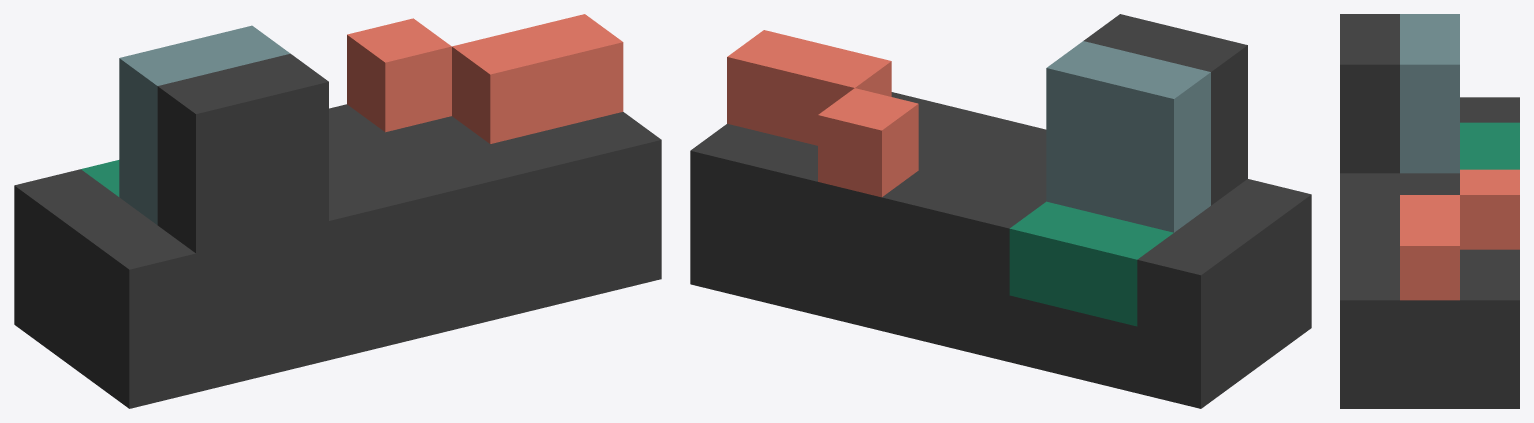
Rendered from casher.glb.
3 renders of one model, left to right at view 1: azimuth 30°, elevation 25°; view 2: azimuth 150°, elevation 25°; view 3: azimuth 270°, elevation 25°, orthographic. The views are drawn at different scales.
Parts seen in each view (by area): view 1: Untitled; view 2: Untitled; view 3: Untitled.
Part boxes in pixels (x1,y1,x2,y2): Untitled: (14,14,661,408); Untitled: (690,14,1311,408); Untitled: (1340,14,1519,408).
Bounding box in the file's own units: 80 × 40 × 30.
1 material, 1 textured.
